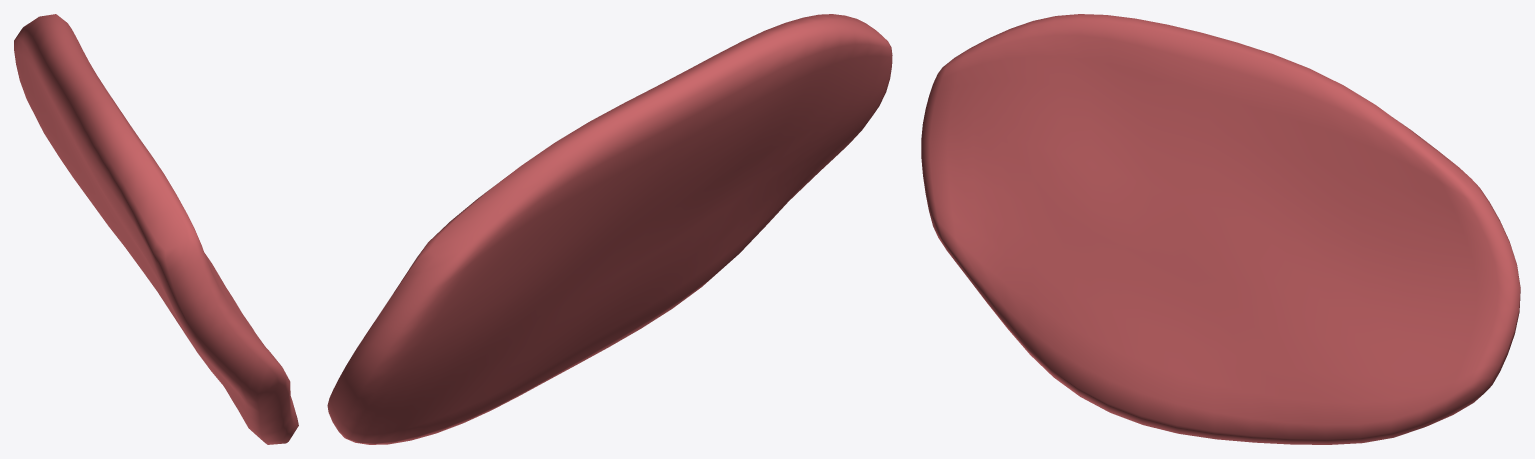
3 renders of one model, left to right at view 1: azimuth 30°, elevation 25°; view 2: azimuth 150°, elevation 25°; view 3: azimuth 270°, elevation 25°, orthographic. The views are drawn at different scales.
Visible parts, largest first — view 1: 左侧鹅足囊; view 2: 左侧鹅足囊; view 3: 左侧鹅足囊.
Boxes of the visible parts, left/top/right/bottom form: 左侧鹅足囊: left=14, top=14, right=298, bottom=444; 左侧鹅足囊: left=327, top=14, right=892, bottom=444; 左侧鹅足囊: left=921, top=14, right=1520, bottom=444.
Size of the model in its own units: 0.0206 by 0.0253 by 0.0414.
